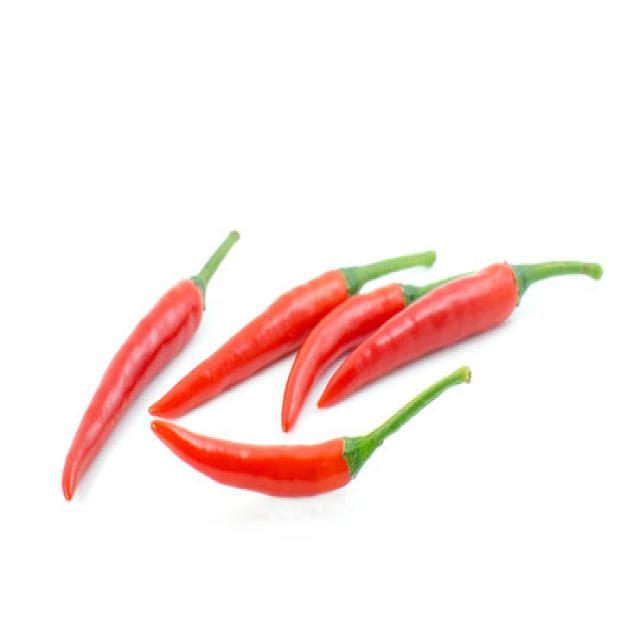Chilli: (147, 247, 436, 420), (61, 228, 240, 502), (149, 362, 472, 498), (314, 258, 602, 410), (279, 265, 472, 432)
